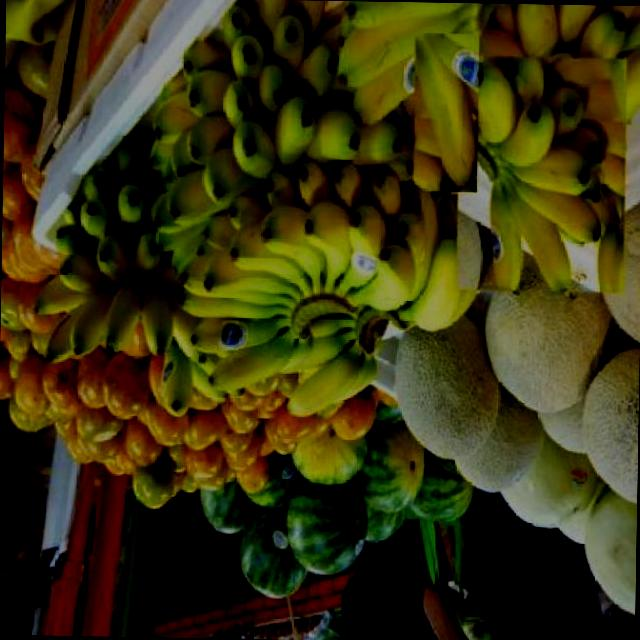Banana: (174, 170, 476, 418), (455, 55, 627, 292)
